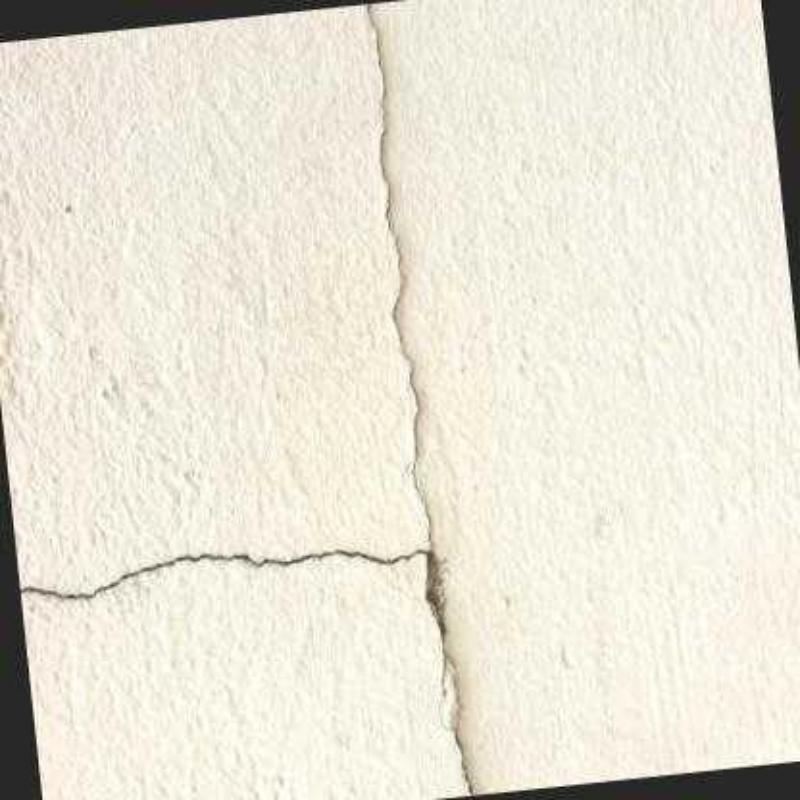pothole: (18, 1, 470, 793)
